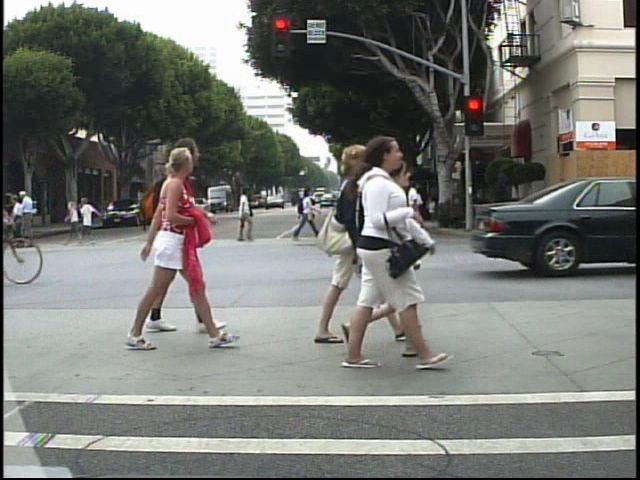person: (351, 137, 425, 375), (137, 149, 220, 356), (354, 160, 432, 369), (310, 145, 366, 360), (173, 140, 226, 338), (290, 183, 321, 248), (229, 185, 259, 251), (405, 177, 427, 244), (20, 188, 42, 247), (12, 195, 28, 250), (370, 187, 386, 223)
